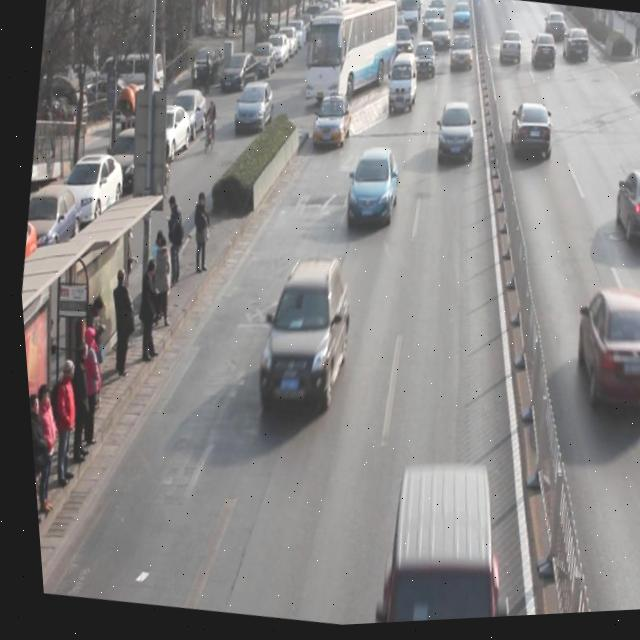car: (359, 459, 521, 627), (242, 251, 361, 426), (560, 285, 640, 426), (336, 145, 404, 239), (430, 103, 480, 174), (503, 104, 557, 169), (605, 171, 640, 260), (307, 94, 356, 156), (384, 26, 417, 74), (526, 35, 560, 80), (561, 30, 594, 74), (409, 44, 441, 88), (446, 36, 477, 79), (495, 32, 525, 72)
truck: (382, 53, 423, 123)
van: (295, 0, 406, 115)
